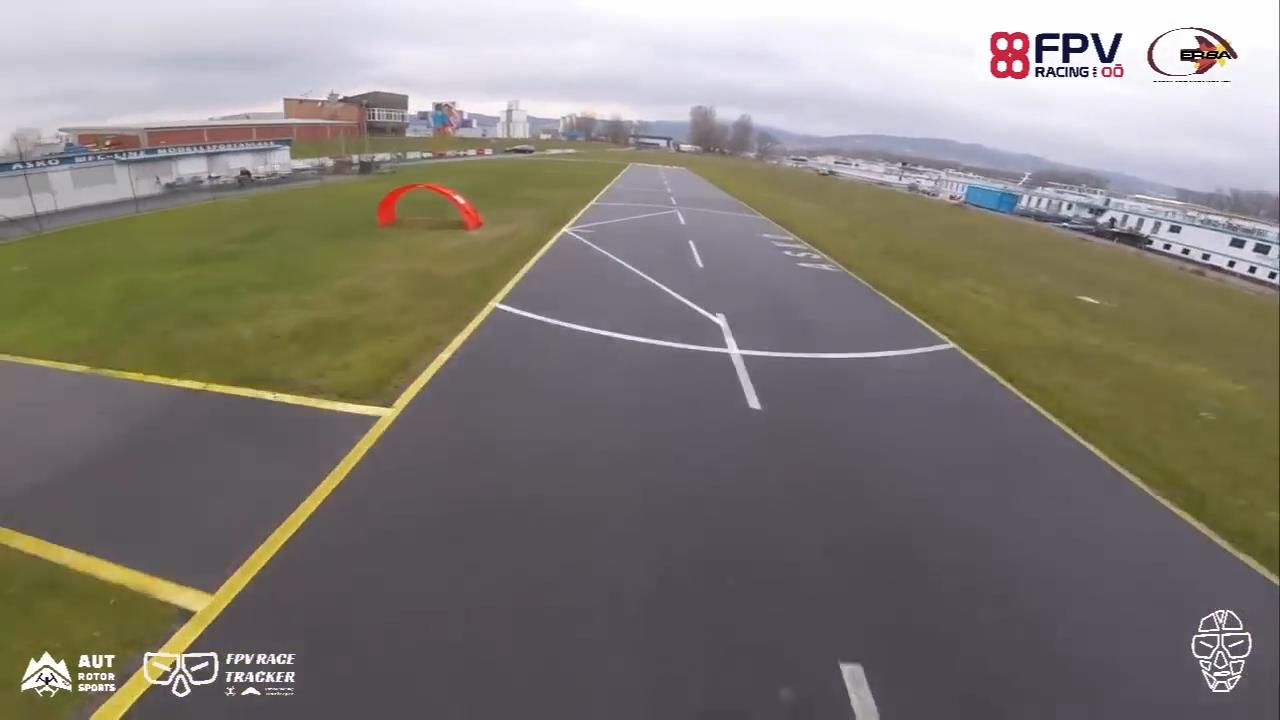gate: (373, 182, 485, 235)
